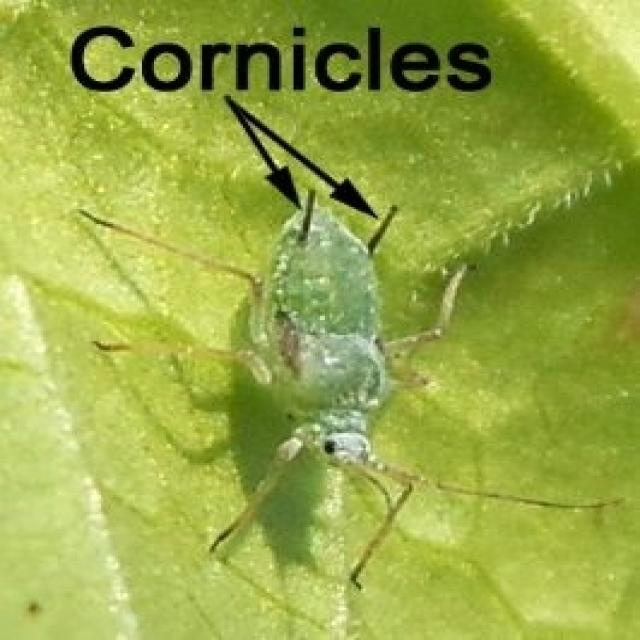Aphid-Grown-: (88, 194, 526, 557)
